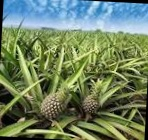Pineapple: (41, 78, 77, 122), (82, 77, 104, 114)
